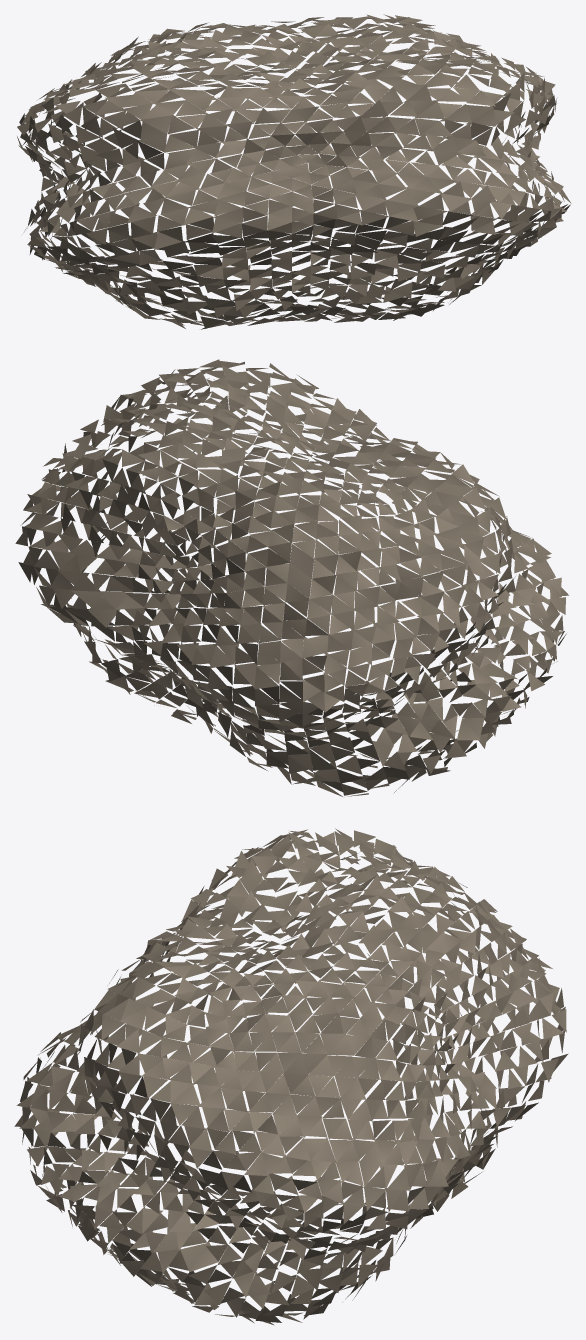
The model's file is mature-lod0.glb.
3 views of the same model, one above another, from view 1: azimuth 30°, elevation 25°; view 2: azimuth 150°, elevation 25°; view 3: azimuth 270°, elevation 25° (orthographic). The views are drawn at different scales.
Parts seen in each view (by area): view 1: coherent-weathered-fieldstone; view 2: coherent-weathered-fieldstone; view 3: coherent-weathered-fieldstone.
Part boxes in pixels (x1,y1,x2,y2): coherent-weathered-fieldstone: (17,14,571,329); coherent-weathered-fieldstone: (15,359,568,796); coherent-weathered-fieldstone: (14,828,568,1325).
Size of the model in its own units: 4.57 by 2.32 by 3.69.
